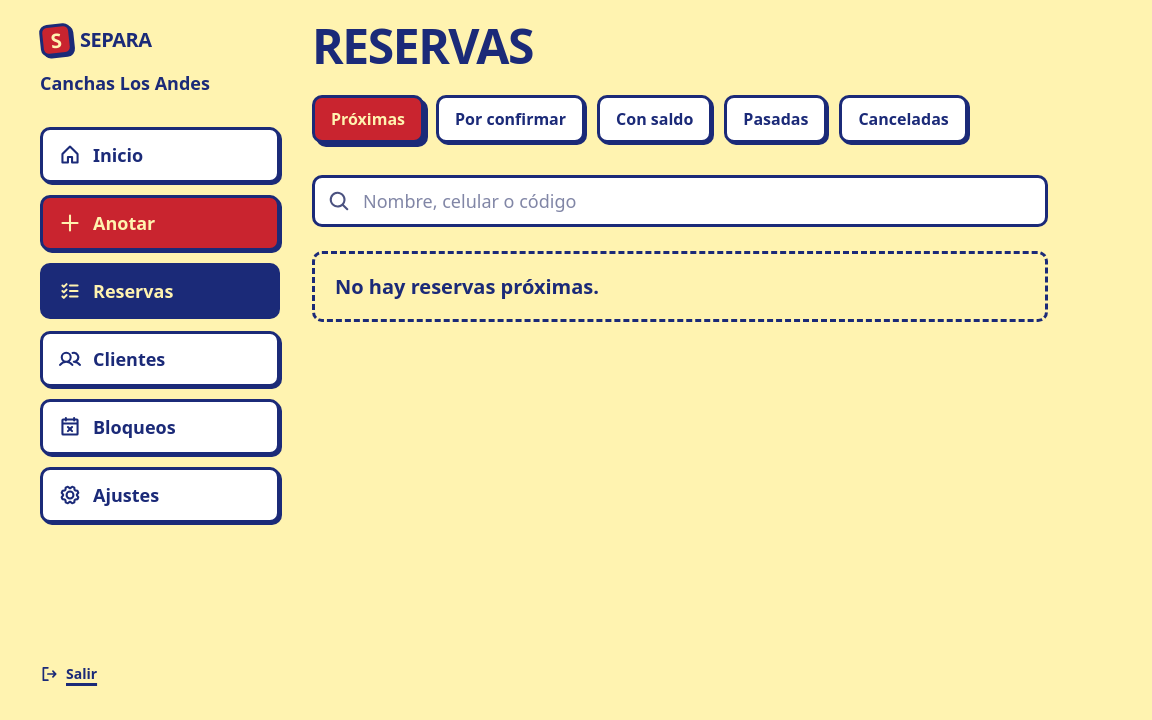
Test: the bookings page › searches by name or phone
This screenshot has width=1152, height=720.
Expected: the text "No hay reservas próximas." is shown, [312,251,1048,322]
Type "Rosa" into the search field named "Buscar por nombre, celular o código" at (680, 201), box [312,175,1048,227]
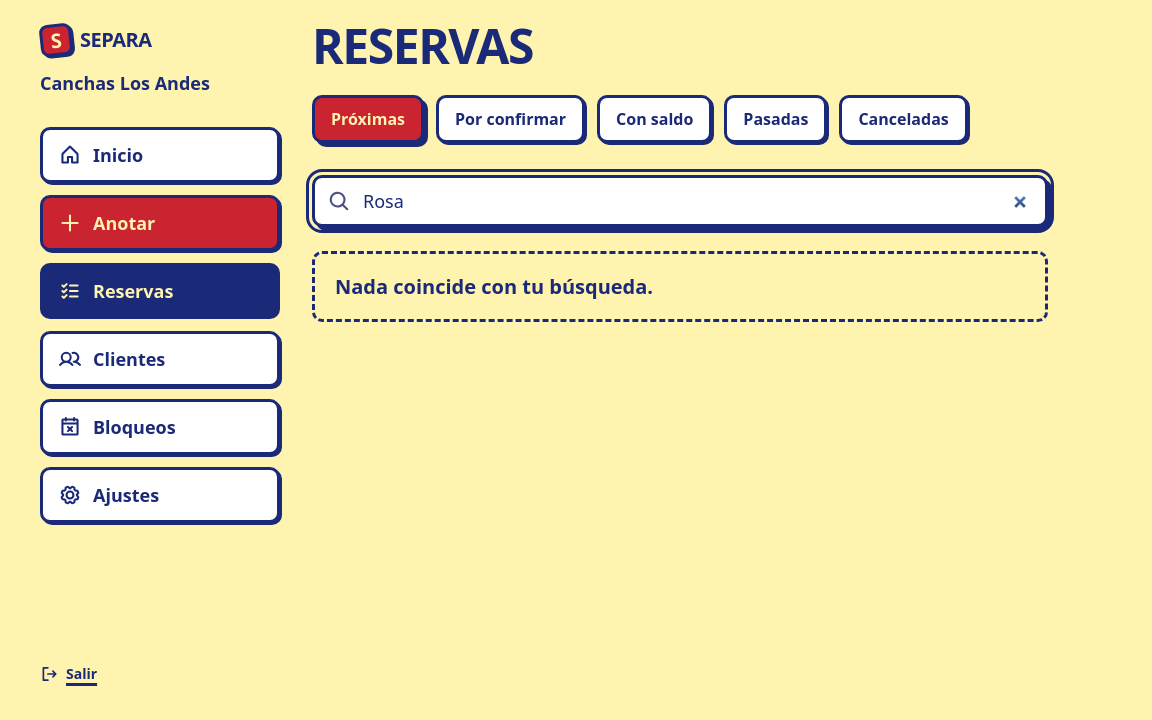
Expected: the text "Nada coincide con tu búsqueda." is shown, [312,251,1048,322]
